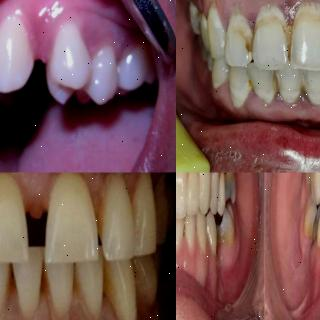Gum Swelling: (212, 81, 320, 122), (201, 0, 320, 37)
calculus: (294, 71, 309, 101)
stains: (96, 258, 118, 304), (34, 262, 54, 305), (3, 260, 21, 295), (63, 276, 78, 304), (268, 67, 282, 96), (244, 74, 257, 96)
